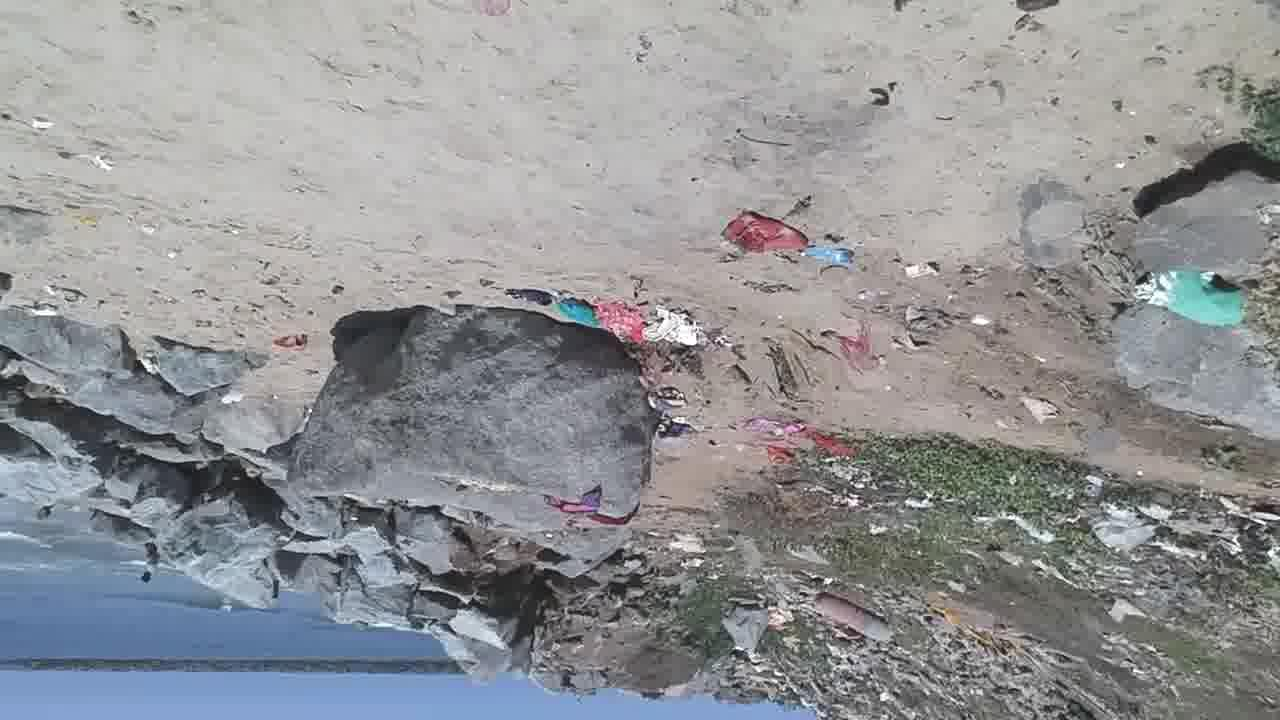large collection of objects: (288, 304, 664, 531), (1133, 142, 1274, 278), (1020, 177, 1180, 293)
obj: (718, 434, 1278, 631), (507, 282, 714, 358), (1188, 65, 1278, 181), (1125, 270, 1254, 336), (738, 416, 856, 466), (547, 483, 641, 525), (830, 323, 883, 375), (780, 241, 859, 270)
sand/background: (1, 291, 1279, 719)
